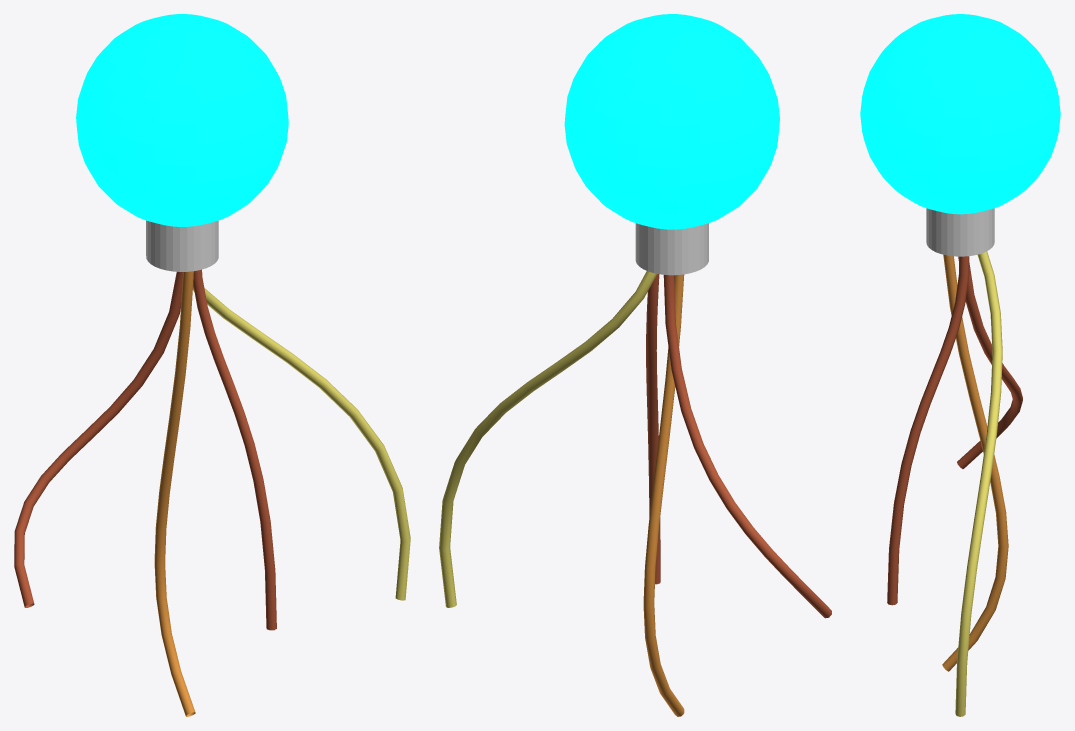
The model's file is battery.fbx.
3 renders of one model, left to right at view 1: azimuth 30°, elevation 25°; view 2: azimuth 150°, elevation 25°; view 3: azimuth 270°, elevation 25°, orthographic. The views are drawn at different scales.
Parts seen in each view (by area): view 1: bulb, wire2, wire, wire1, wire3, Cylinder; view 2: bulb, wire, wire2, wire1, Cylinder, wire3; view 3: bulb, wire, wire2, wire3, Cylinder, wire1.
Part boxes in pixels (x1,y1,x2,y2): bulb: (76, 14, 288, 226); wire2: (154, 271, 195, 716); wire: (193, 285, 410, 600); wire1: (14, 271, 183, 607); wire3: (193, 269, 276, 630); Cylinder: (146, 220, 218, 271); bulb: (564, 14, 779, 229); wire: (439, 271, 656, 607); wire2: (643, 274, 684, 716); wire1: (663, 275, 831, 618); Cylinder: (635, 223, 708, 275); wire3: (646, 274, 660, 584); bulb: (860, 14, 1060, 214); wire: (955, 251, 1002, 716); wire2: (942, 254, 1008, 671); wire3: (887, 256, 969, 605); Cylinder: (926, 208, 994, 256); wire1: (957, 256, 1022, 468).
Bounding box in the file's own units: 162 × 276 × 77.38.
